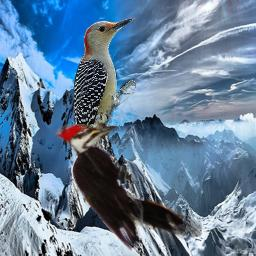Woodpecker: (54, 124, 202, 252), (74, 14, 138, 196)
